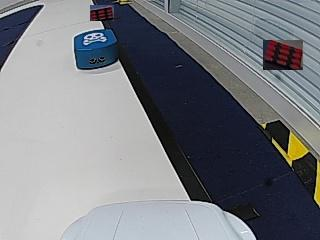danger: (82, 31, 106, 44)
